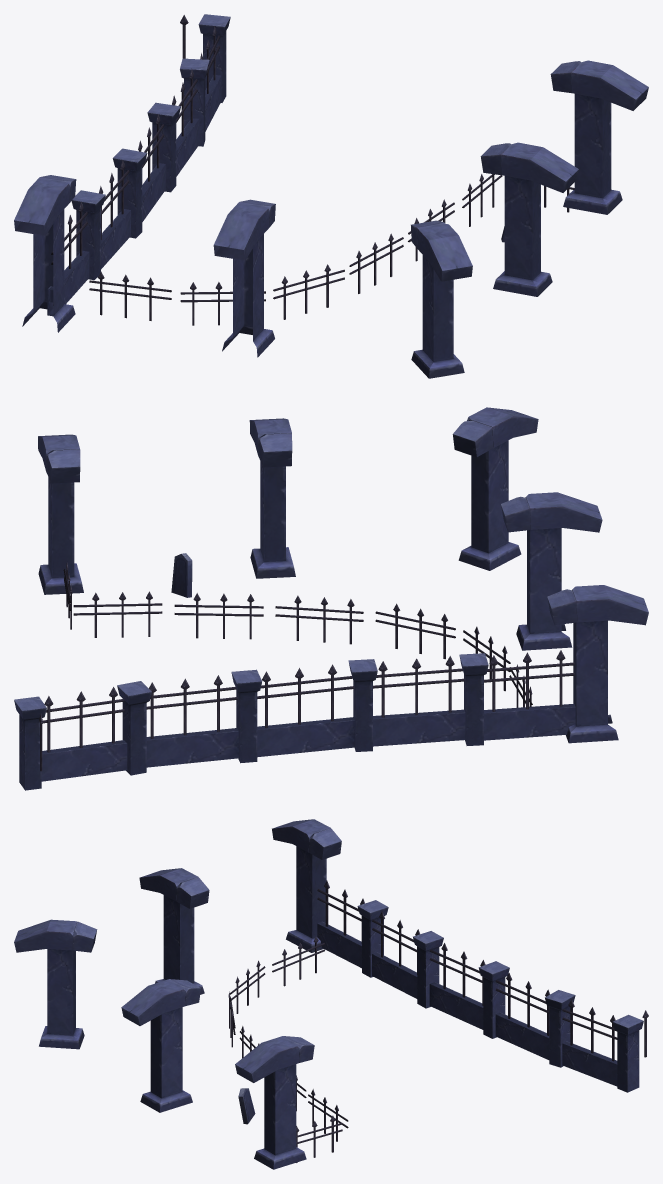
The model's file is Area06_11.fbx.
3 renders of one model, top to bottom at view 1: azimuth 30°, elevation 25°; view 2: azimuth 150°, elevation 25°; view 3: azimuth 270°, elevation 25°, orthographic. The views are drawn at different scales.
Parts seen in each view (by area): view 1: Area06_11; view 2: Area06_11; view 3: Area06_11.
Part boxes in pixels (bbox=[...]): Area06_11: bbox=[14, 14, 648, 378]; Area06_11: bbox=[14, 407, 648, 790]; Area06_11: bbox=[14, 819, 648, 1169].
Bounding box in the file's own units: 4876 × 1118 × 5147.
